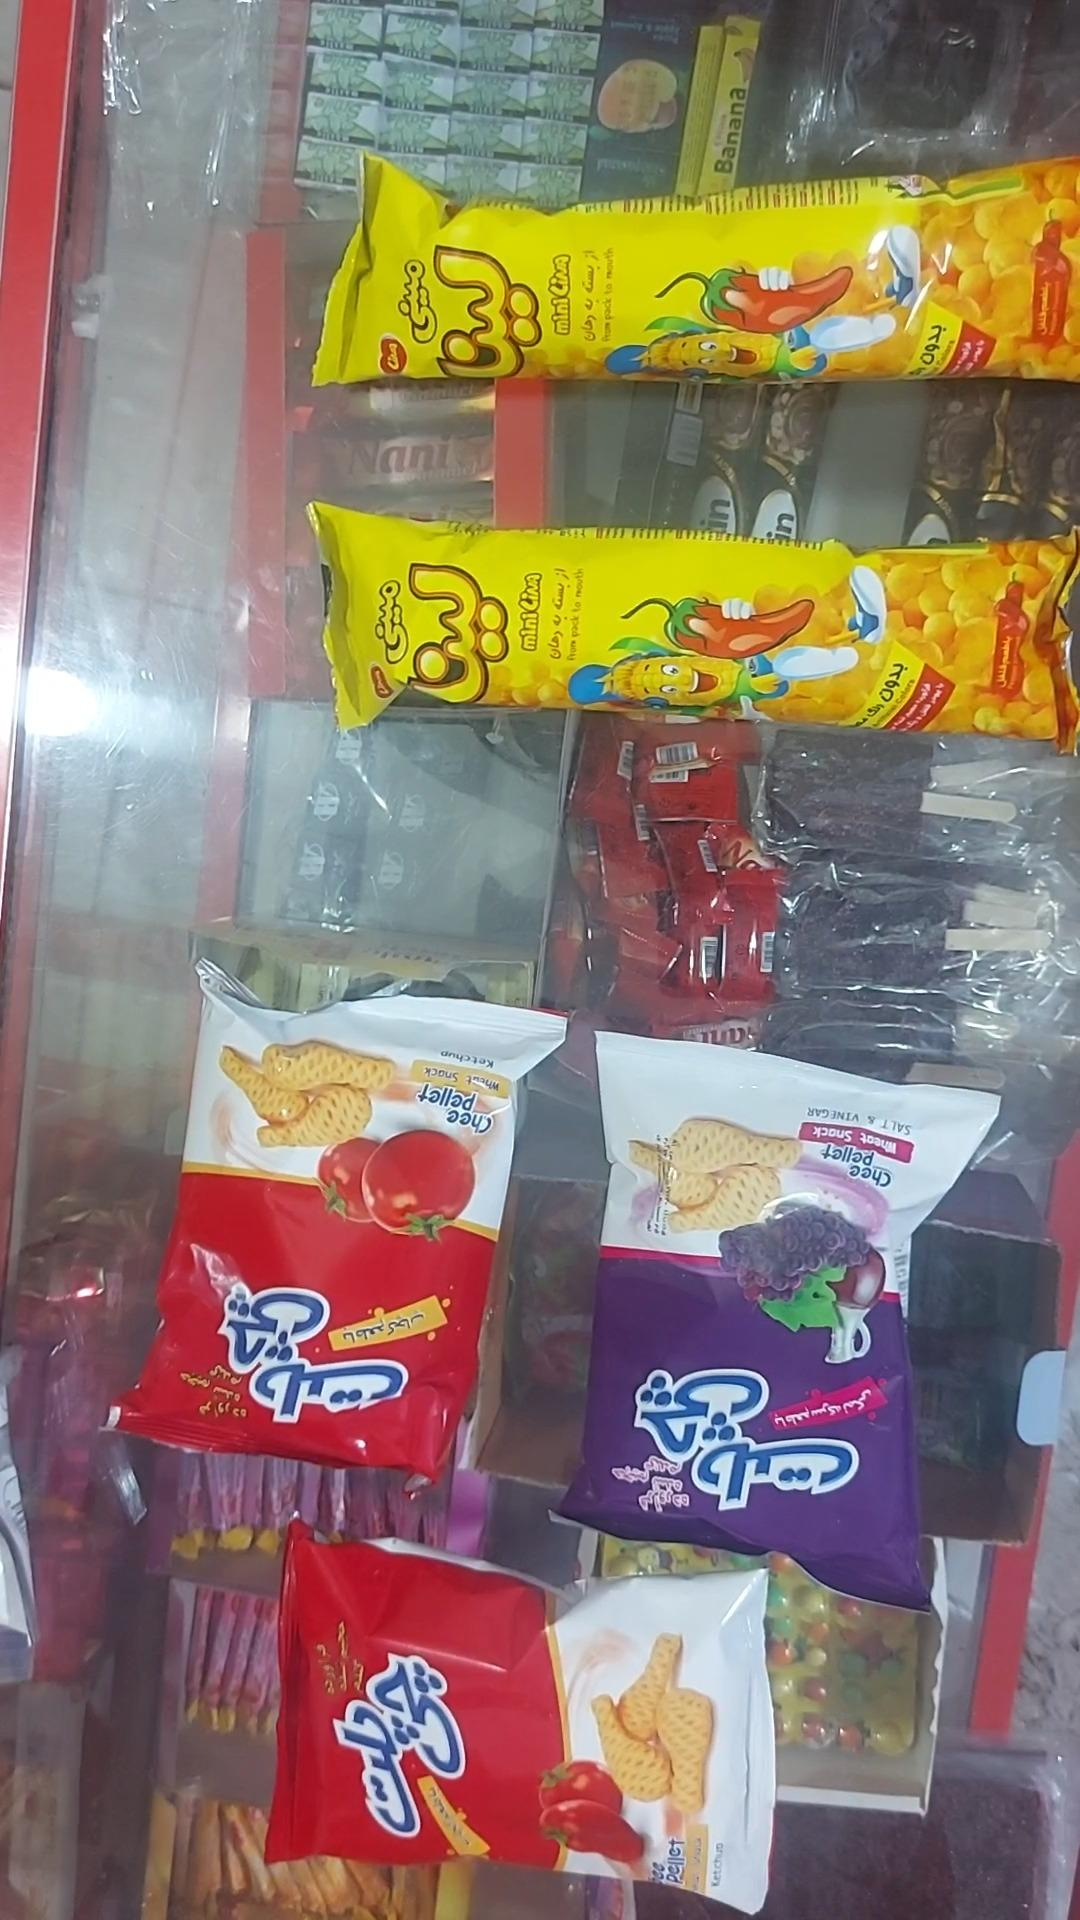Chee pellet ketchup: (116, 957, 566, 1487), (264, 1520, 778, 1913)
Chee pellet vinegar: (550, 1031, 1000, 1617)
Mini Lina: (303, 501, 1079, 756), (310, 156, 1079, 396)
